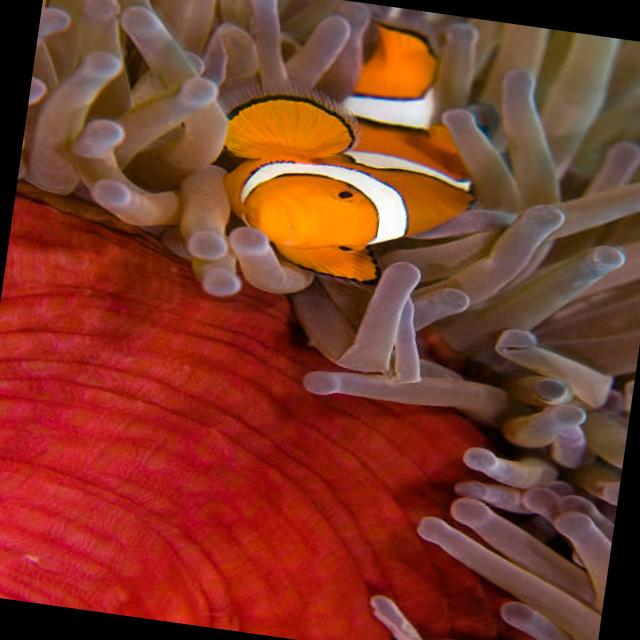ClownFish: (208, 6, 496, 301)
